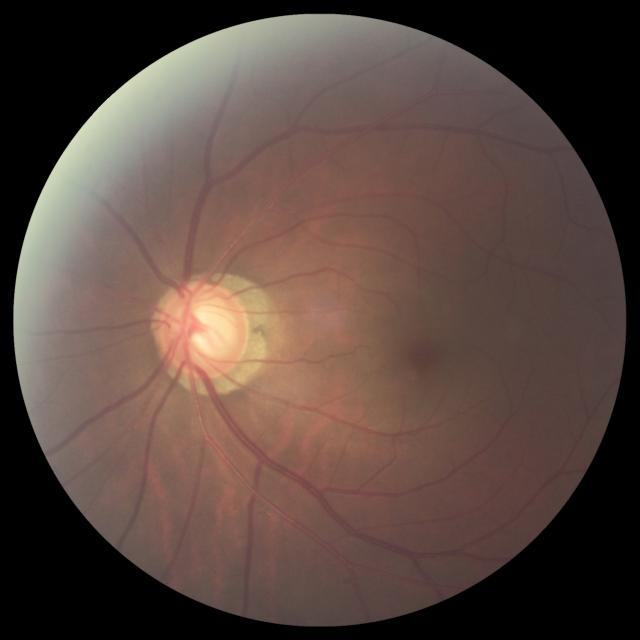OC: (178, 298, 235, 360)
OD: (156, 281, 248, 377)
